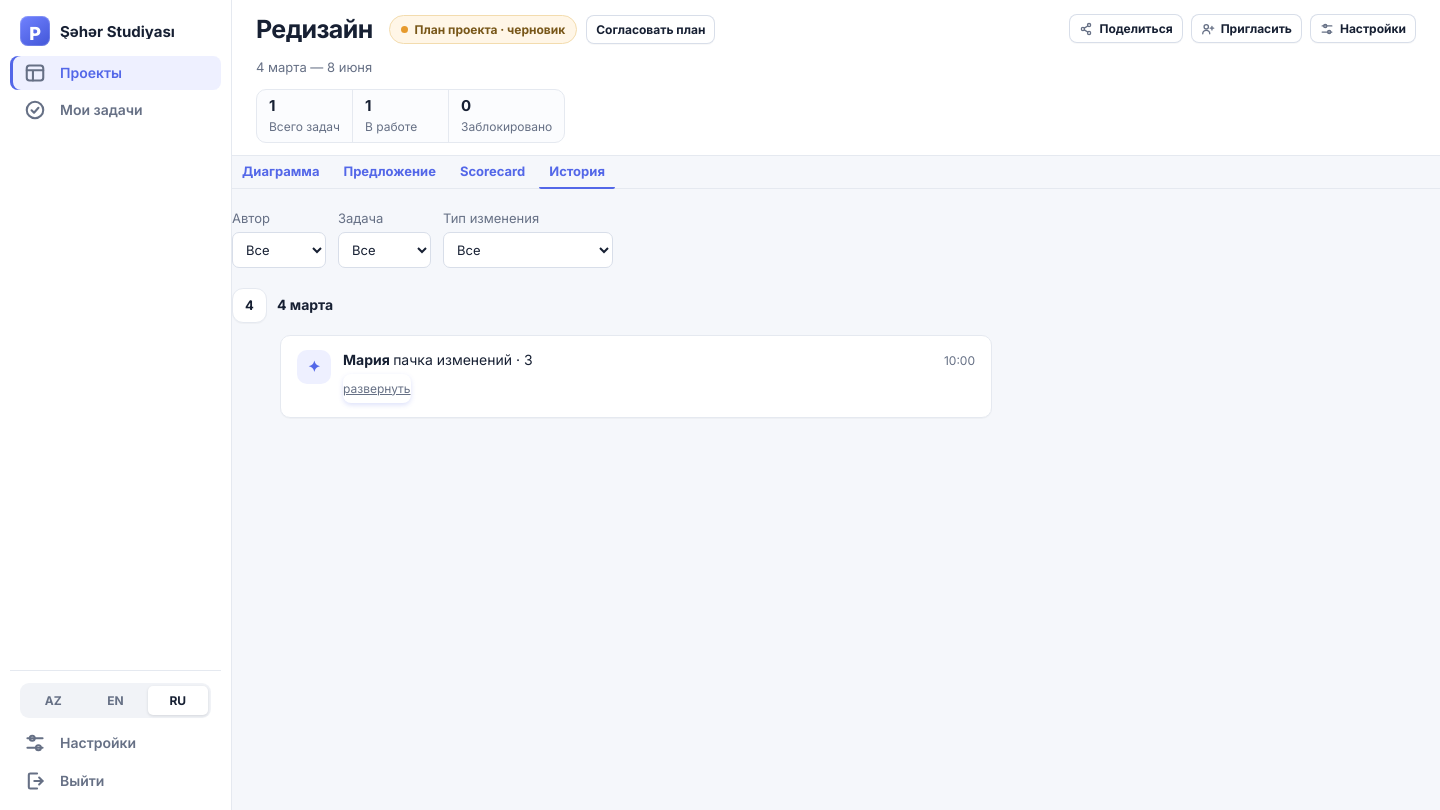
Test case: вкладка «История» › сворачивает пачку в одну строку и раскрывает по просьбе
Expected: the text "Мария пачка изменений · 3" is shown, left=343, top=351, right=533, bottom=368
Expected: the text "создал категорию" is not shown
Click the button "развернуть".
click(377, 388)  # box left=343, top=374, right=410, bottom=403
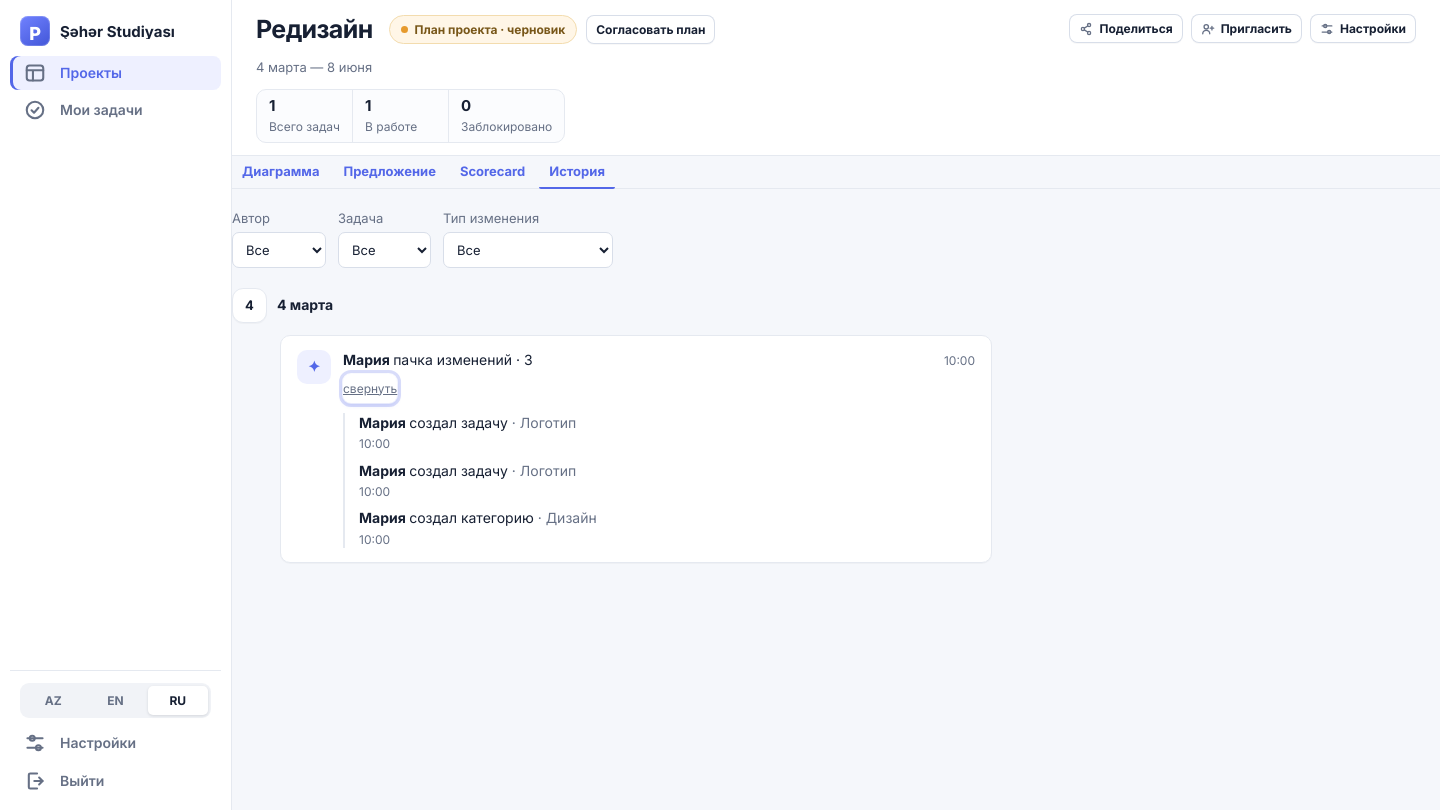
Expected: the text "Мария создал категорию · Дизайн" is shown, left=359, top=509, right=597, bottom=526
